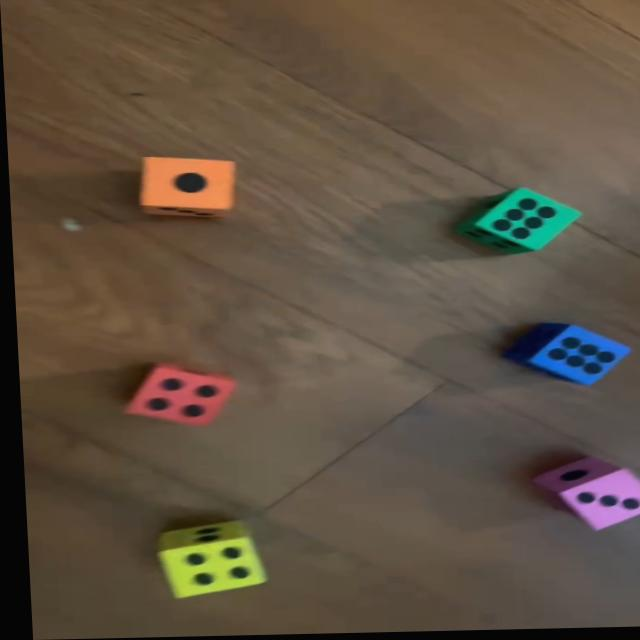blue_block: (502, 325, 629, 387)
red_block: (119, 361, 234, 428)
